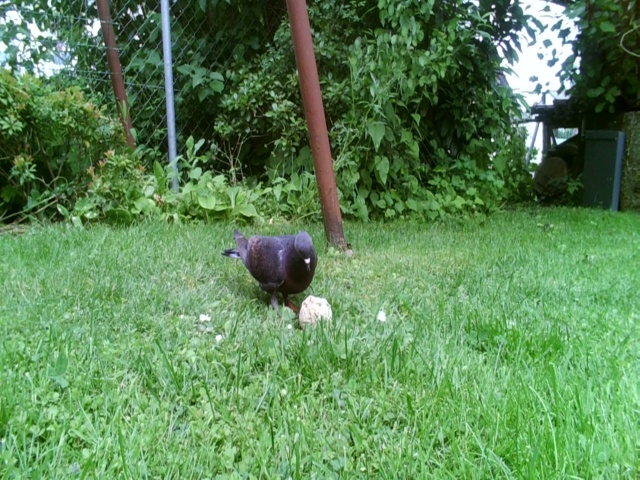Pigeon: (216, 225, 330, 322)
